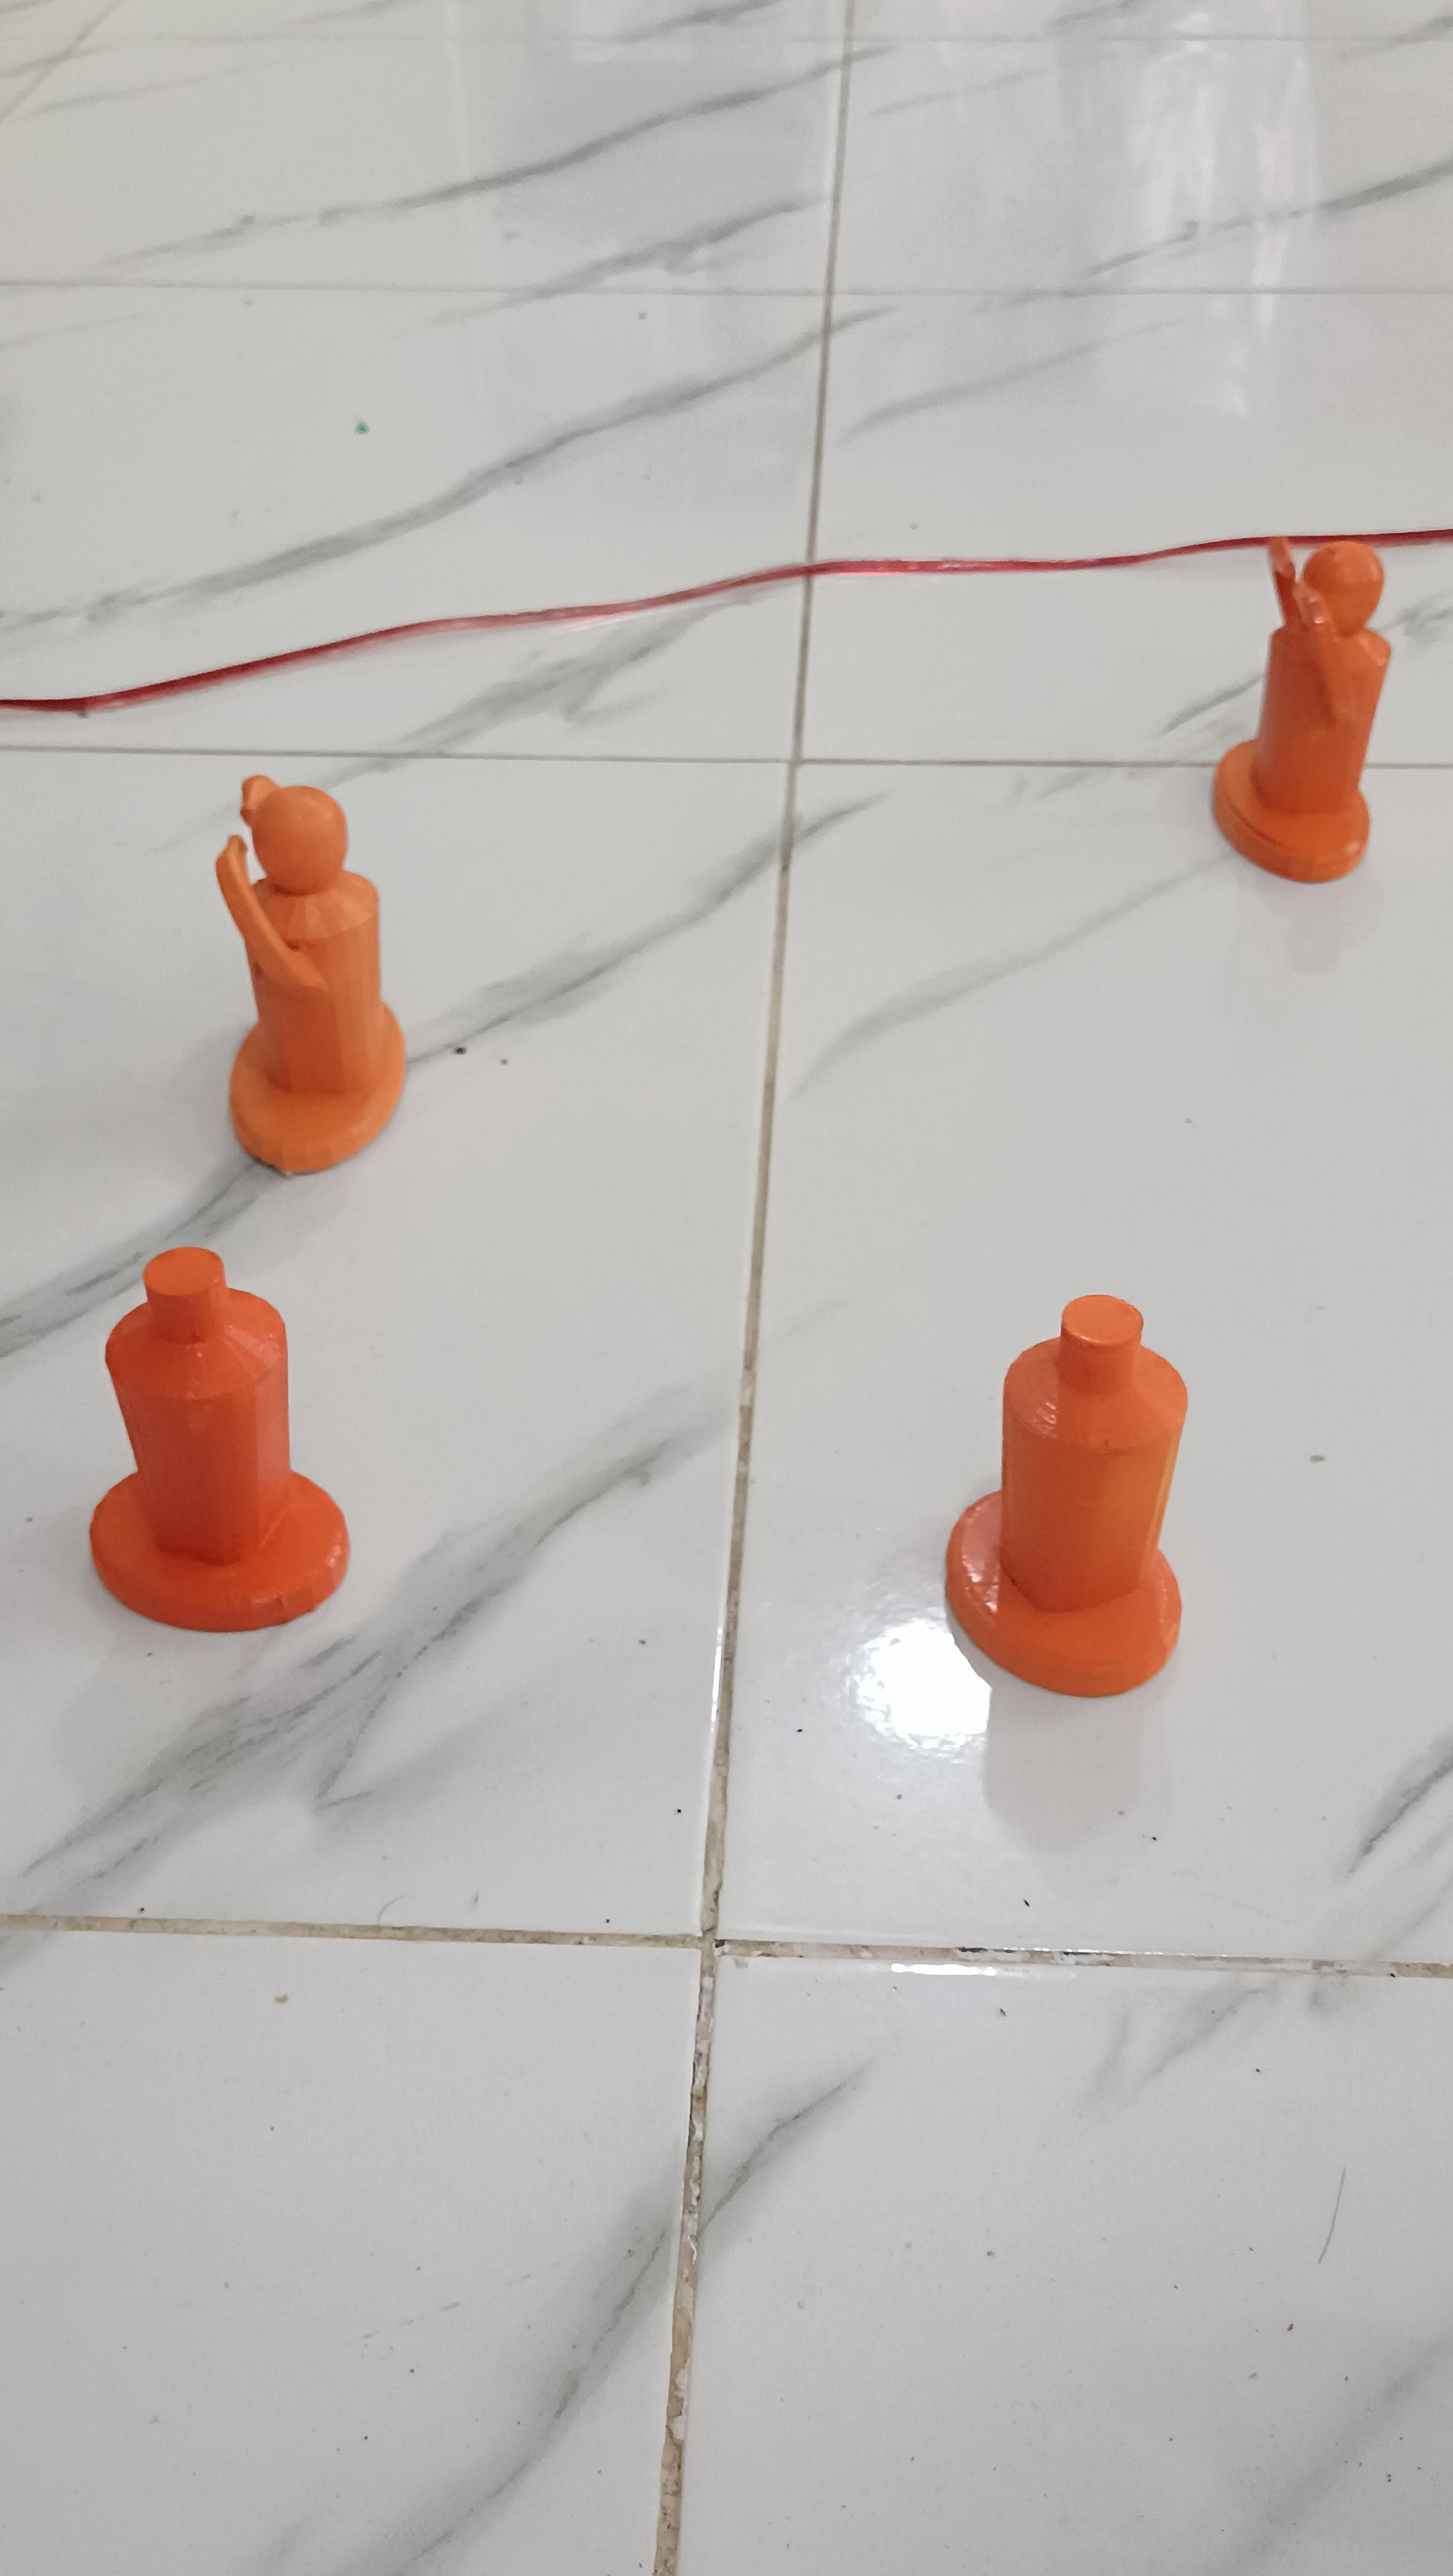dummy: (936, 1265, 1237, 1721), (72, 1237, 368, 1680)
real_person: (145, 760, 435, 1204), (1174, 507, 1421, 914)
